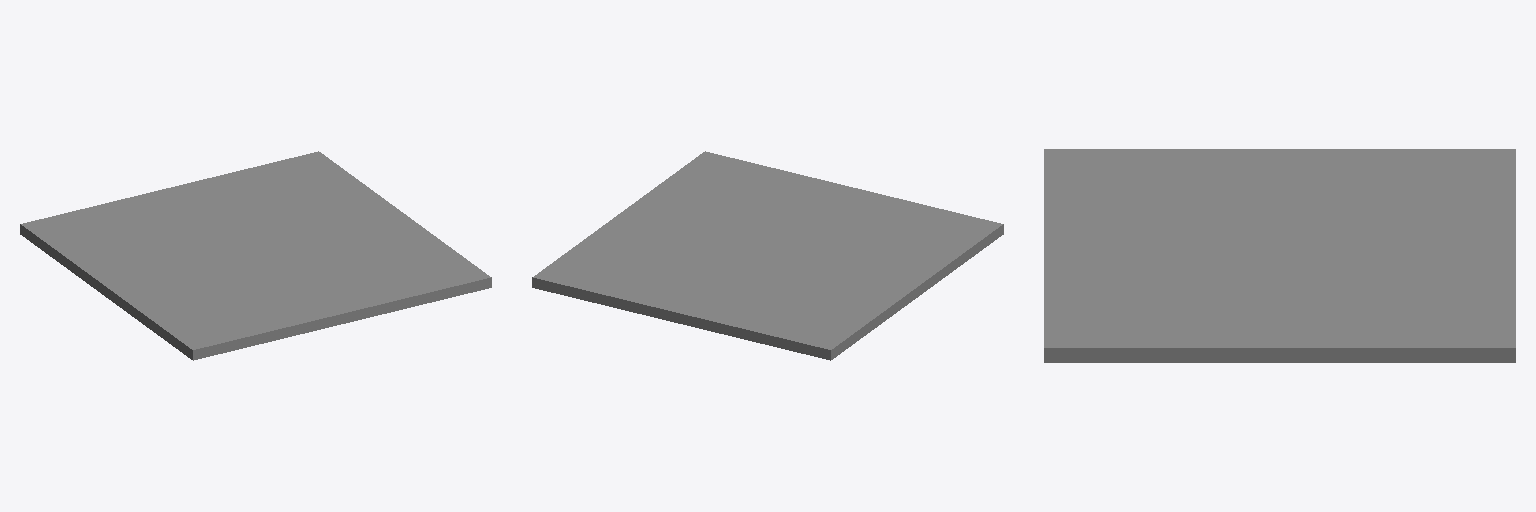
The robot description file, URDF, robot "plane":
<?xml version="1.0" ?>
<!--
  ~ Copyright 2020 Google LLC
  ~
  ~ Licensed under the Apache License, Version 2.0 (the "License");
  ~ you may not use this file except in compliance with the License.
  ~ You may obtain a copy of the License at
  ~
  ~     https://www.apache.org/licenses/LICENSE-2.0
  ~
  ~ Unless required by applicable law or agreed to in writing, software
  ~ distributed under the License is distributed on an "AS IS" BASIS,
  ~ WITHOUT WARRANTIES OR CONDITIONS OF ANY KIND, either express or implied.
  ~ See the License for the specific language governing permissions and
  ~ limitations under the License.
  -->

<robot name="plane">
  <link name="planeLink">
    <inertial>
      <origin rpy="0 0 0" xyz="0 0 0"/>
       <mass value=".0"/>
       <inertia ixx="0" ixy="0" ixz="0" iyy="0" iyz="0" izz="0"/>
    </inertial>
    <visual>
      <origin rpy="0 0 0" xyz="0 0 -5"/>
      <geometry>
			<box size="300 300 10"/>
      </geometry>
       <material name="white">
        <color rgba="0.6 0.6 0.6 1"/>
      </material>
    </visual>
    <collision>
      <origin rpy="0 0 0" xyz="0 0 -5"/>
      <geometry>
	 	<box size="300 300 10"/>
      </geometry>
    </collision>
  </link>
</robot>

--- What the picture shows (computed from the rendered views, not written in the file) ---
3 views of the same robot in one strip: view 1: azimuth 30°, elevation 25°; view 2: azimuth 150°, elevation 25°; view 3: azimuth 270°, elevation 25° (orthographic).
Model plane with 1 links and 0 joints (none), rooted at planeLink, posed every joint at zero.
Links seen in each view (by area): view 1: planeLink; view 2: planeLink; view 3: planeLink.
Link boxes in pixels (left/top/right/bottom): planeLink: left=20, top=151, right=491, bottom=360; planeLink: left=532, top=151, right=1003, bottom=360; planeLink: left=1044, top=149, right=1515, bottom=362.
Size in the robot's own frame: 300 by 300 by 10 metres.
Geometry: primitives only (box / cylinder / sphere), no mesh files.